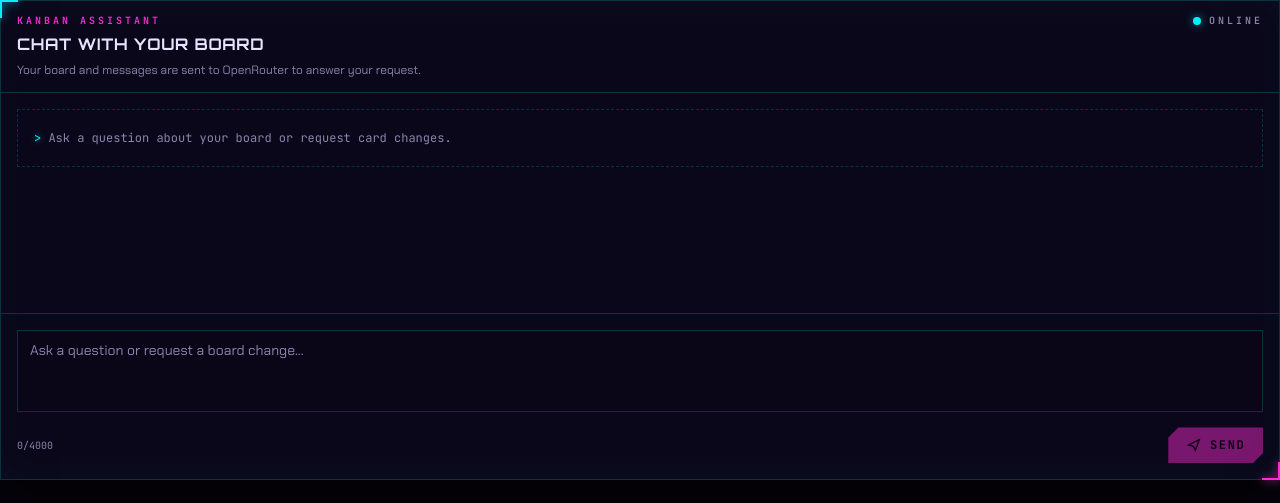
it: shows provider errors and keeps the failed request available to retry
Type "Try this request" into the text box named "Message the assistant" at (640, 371), box [17,330,1263,412]
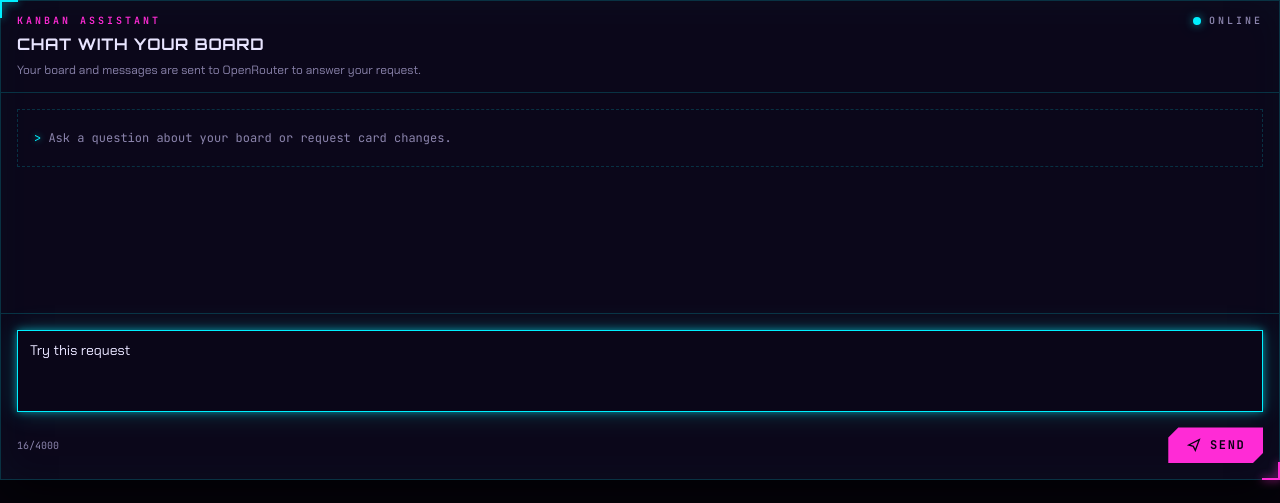
Click the button "Send" at (1216, 445), box [1168,427,1263,463]
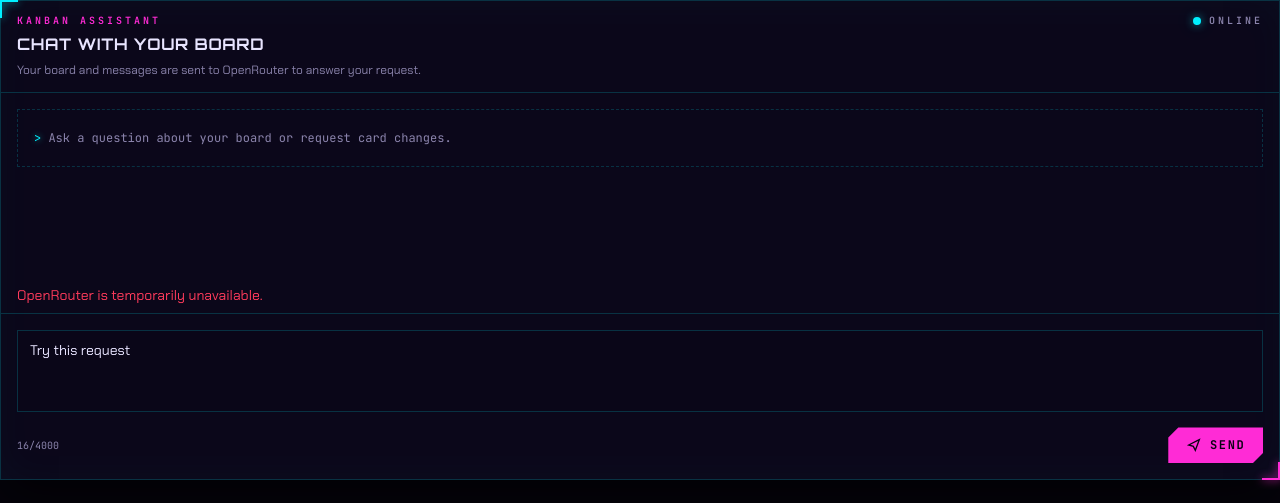
Expected: the message reads "OpenRouter is temporarily unavailable.", [17,286,263,304]
